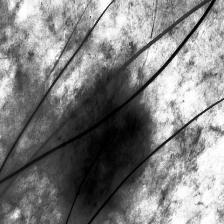Benign Marking or Mole: (59, 84, 143, 209)
